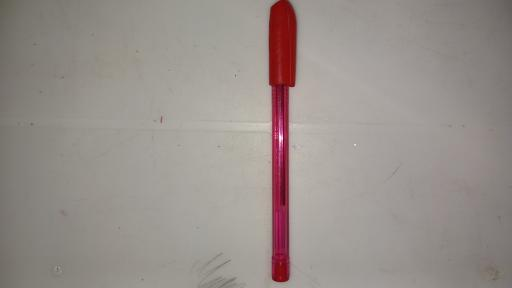pen: (269, 1, 299, 284)
